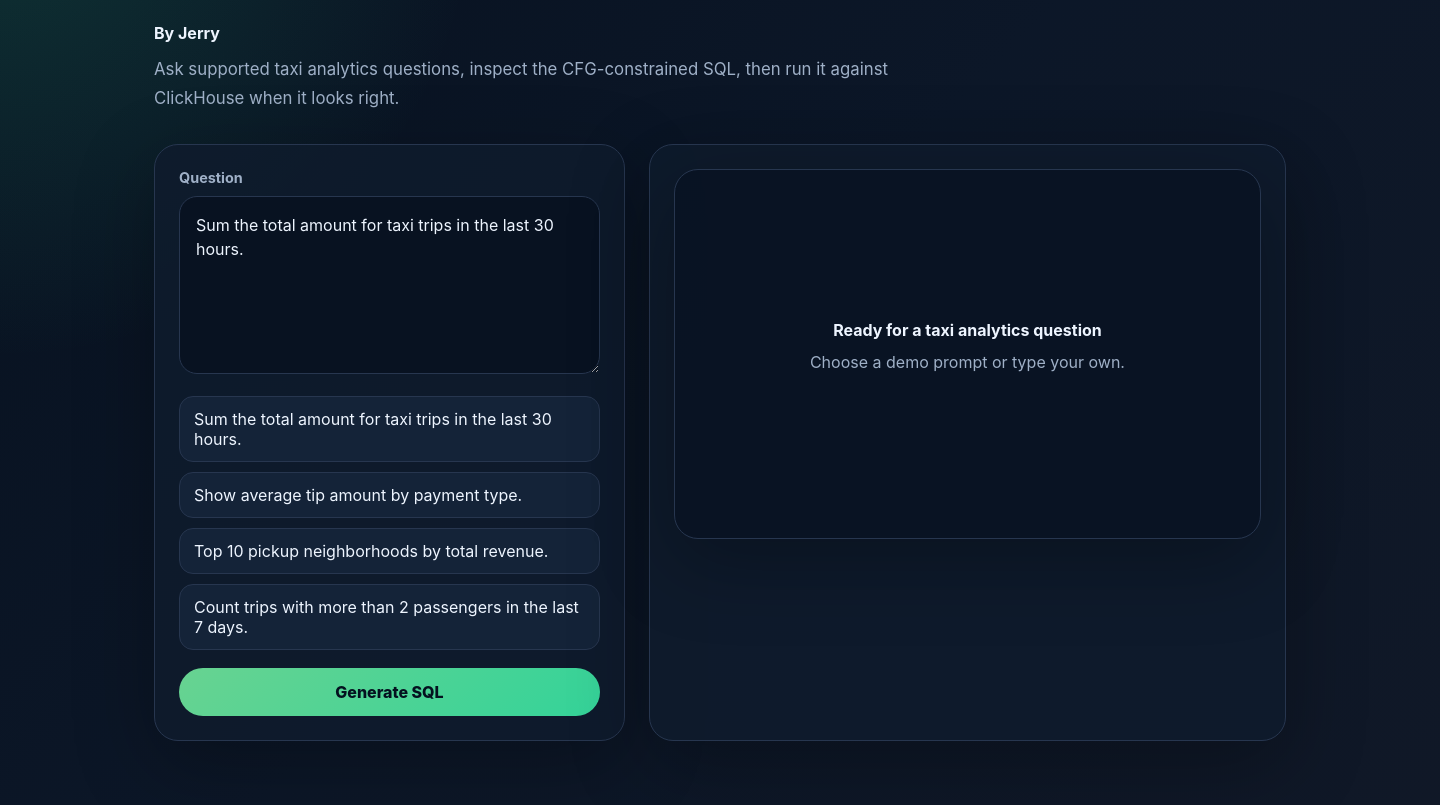
Test: Home › shows a loading state while SQL generation is pending
(page scrolled)
What coordinates should you click on to do the following:
click the button "Generate SQL"
I would click on:
 (389, 692)
Its box is 179,668 -> 600,716.
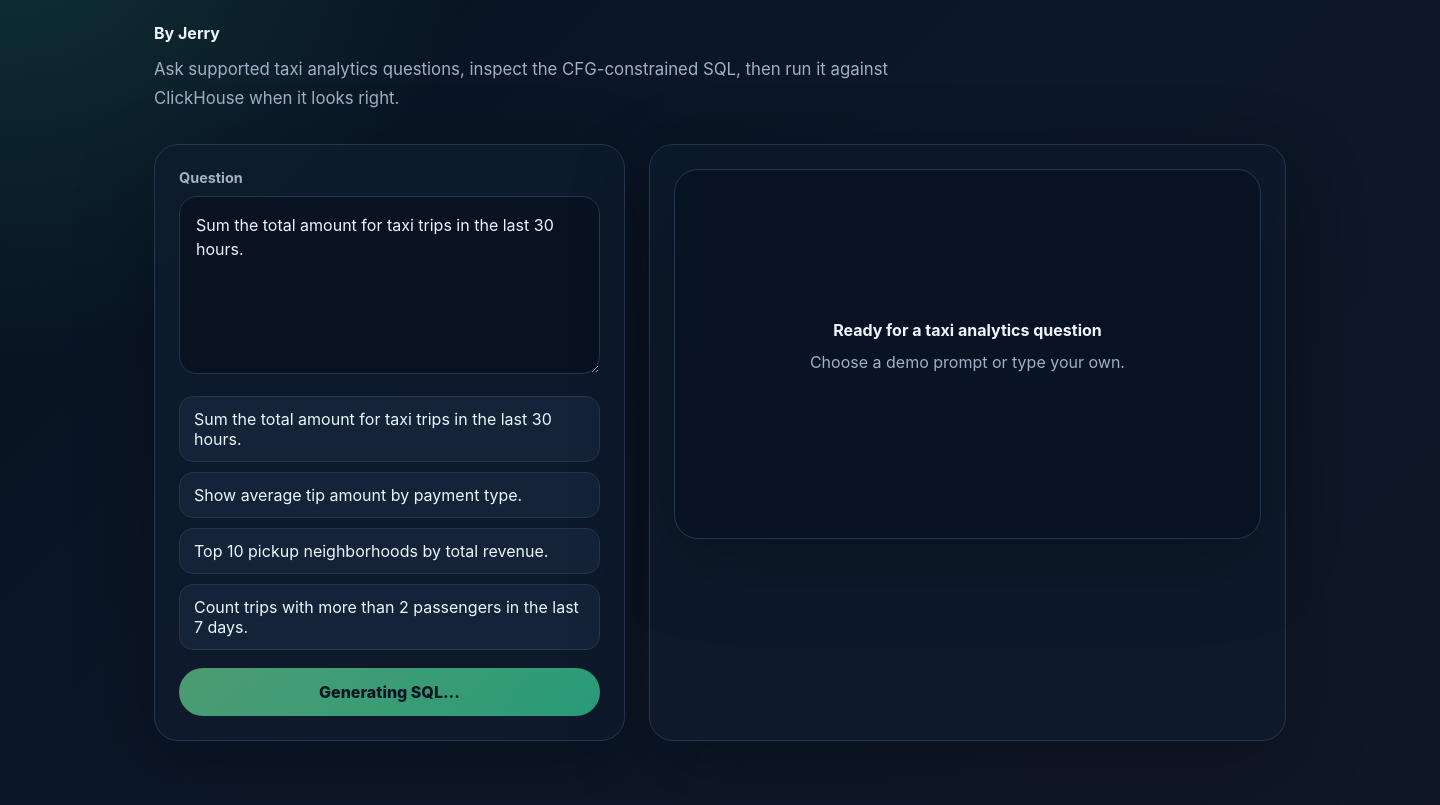
Now the button "Generating SQL..." is disabled, box 179,668 -> 600,716
